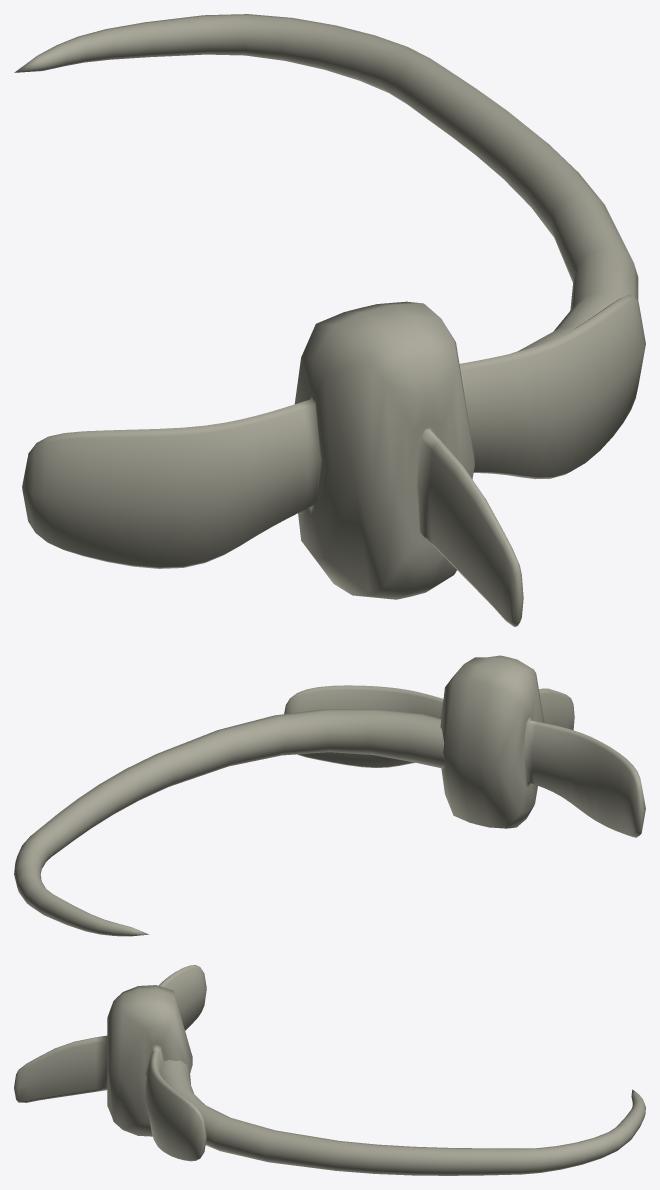
Rendered from whale bone.fbx.
3 views of the same model, one above another, from view 1: azimuth 30°, elevation 25°; view 2: azimuth 150°, elevation 25°; view 3: azimuth 270°, elevation 25° (orthographic). The views are drawn at different scales.
Parts seen in each view (by area): view 1: whalegate_low; view 2: whalegate_low; view 3: whalegate_low.
Part boxes in pixels (x1,y1,x2,y2): whalegate_low: (14, 14, 645, 626); whalegate_low: (14, 655, 645, 936); whalegate_low: (14, 965, 645, 1175).
Size of the model in its own units: 502 by 177 by 741.
